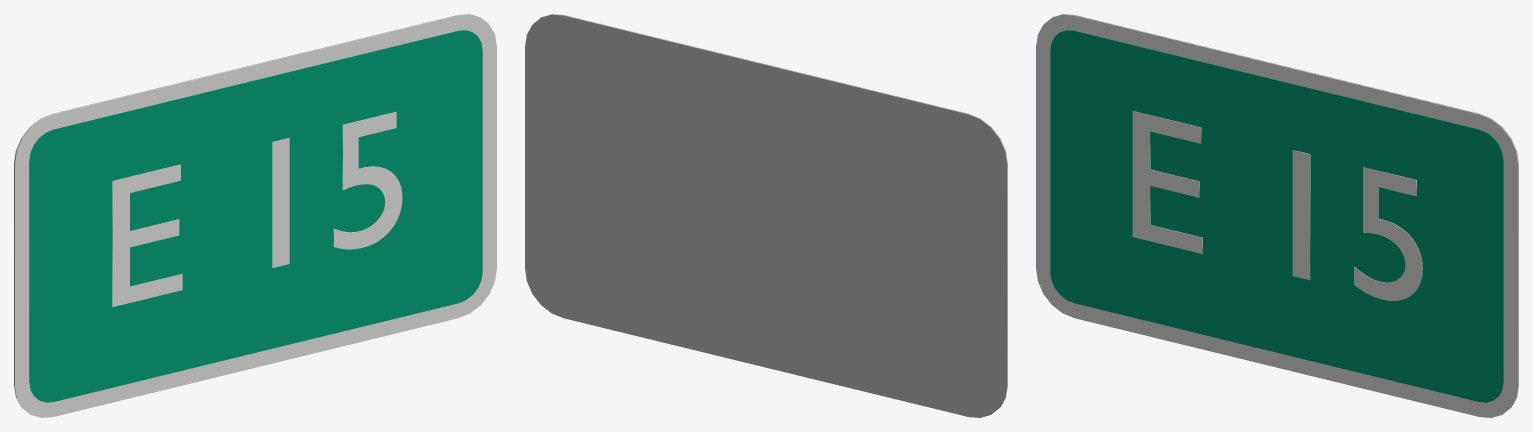
3 renders of one model, left to right at view 1: azimuth 30°, elevation 25°; view 2: azimuth 150°, elevation 25°; view 3: azimuth 330°, elevation 25°, orthographic.
Parts seen in each view (by area): view 1: E41_fond01, E41_cadre00, E41_txt02, E41_dos; view 2: E41_dos, E41_cadre00; view 3: E41_fond01, E41_cadre00, E41_txt02, E41_dos.
Boxes of the visible parts, bbox=[...] form: E41_fond01: bbox=[29, 30, 482, 402]; E41_cadre00: bbox=[14, 14, 496, 417]; E41_txt02: bbox=[112, 111, 402, 306]; E41_dos: bbox=[14, 14, 480, 407]; E41_dos: bbox=[525, 14, 1007, 417]; E41_cadre00: bbox=[545, 14, 1007, 403]; E41_fond01: bbox=[1050, 30, 1503, 402]; E41_cadre00: bbox=[1036, 14, 1518, 417]; E41_txt02: bbox=[1132, 111, 1422, 300]; E41_dos: bbox=[1052, 14, 1518, 407].
Bounding box in the file's own units: 0.5 × 0.3 × 0.0025.
